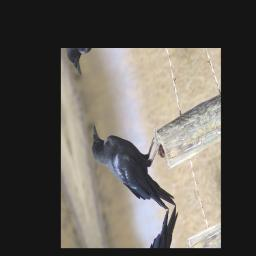Crow: (85, 95, 178, 239)
